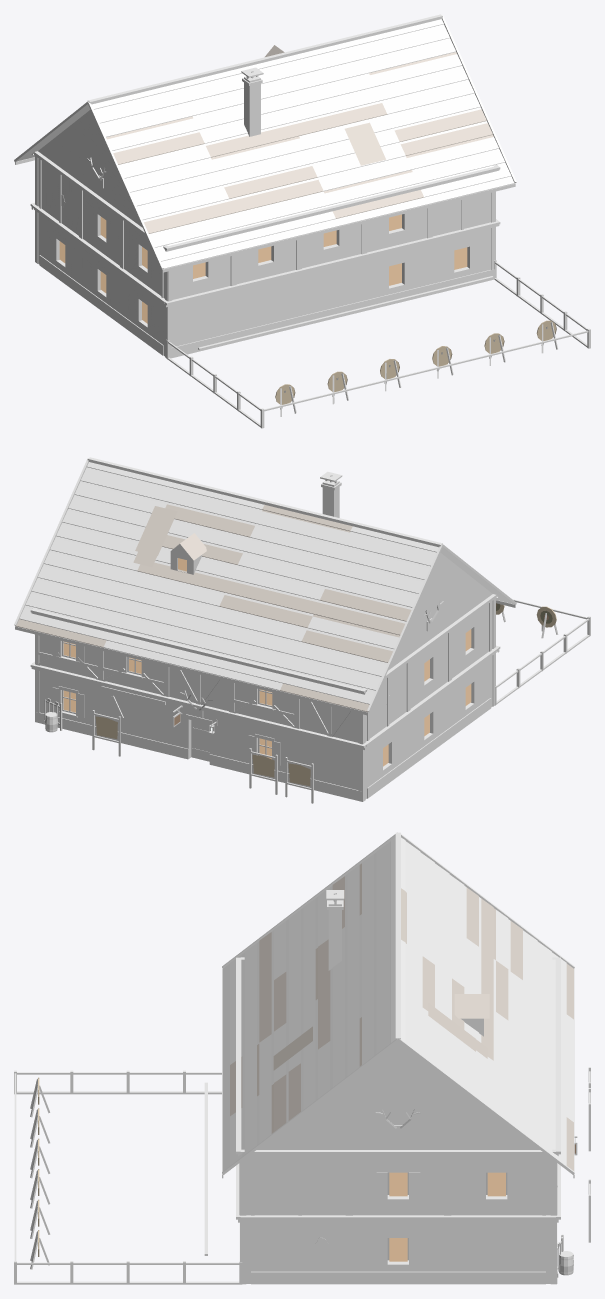
The model's file is concordia_gremio_cazadores_sin_parcela.glb.
The picture shows the model from 3 angles, top to bottom: view 1: azimuth 30°, elevation 25°; view 2: azimuth 150°, elevation 25°; view 3: azimuth 270°, elevation 25°; orthographic projection. The views are drawn at different scales.
Visible parts, largest first — view 1: Gremio_Cazadores_Roof, Gremio_Cazadores_Body, Gremio_Cazadores_Range; view 2: Gremio_Cazadores_Roof, Gremio_Cazadores_Body, Gremio_Cazadores_Range, Gremio_Cazadores_Prop_HideRack_01, Gremio_Cazadores_Prop_HideRack_02, Gremio_Cazadores_Prop_HideRack_03; view 3: Gremio_Cazadores_Roof, Gremio_Cazadores_Body, Gremio_Cazadores_Range.
Part boxes in pixels (box(x1,y1,x2,y2)): Gremio_Cazadores_Roof: box(14, 14, 516, 272); Gremio_Cazadores_Body: box(30, 110, 500, 358); Gremio_Cazadores_Range: box(166, 260, 590, 428); Gremio_Cazadores_Roof: box(14, 457, 516, 715); Gremio_Cazadores_Body: box(30, 553, 500, 801); Gremio_Cazadores_Range: box(495, 599, 590, 705); Gremio_Cazadores_Prop_HideRack_01: box(285, 757, 313, 803); Gremio_Cazadores_Prop_HideRack_02: box(249, 748, 277, 794); Gremio_Cazadores_Prop_HideRack_03: box(92, 710, 120, 756); Gremio_Cazadores_Roof: box(222, 832, 574, 1178); Gremio_Cazadores_Body: box(236, 957, 560, 1284); Gremio_Cazadores_Range: box(14, 1070, 242, 1284).
Size of what is drawn, in the model's own units: 21.72 by 13.34 by 25.62.
Materials: 13 (12 with a texture image).
